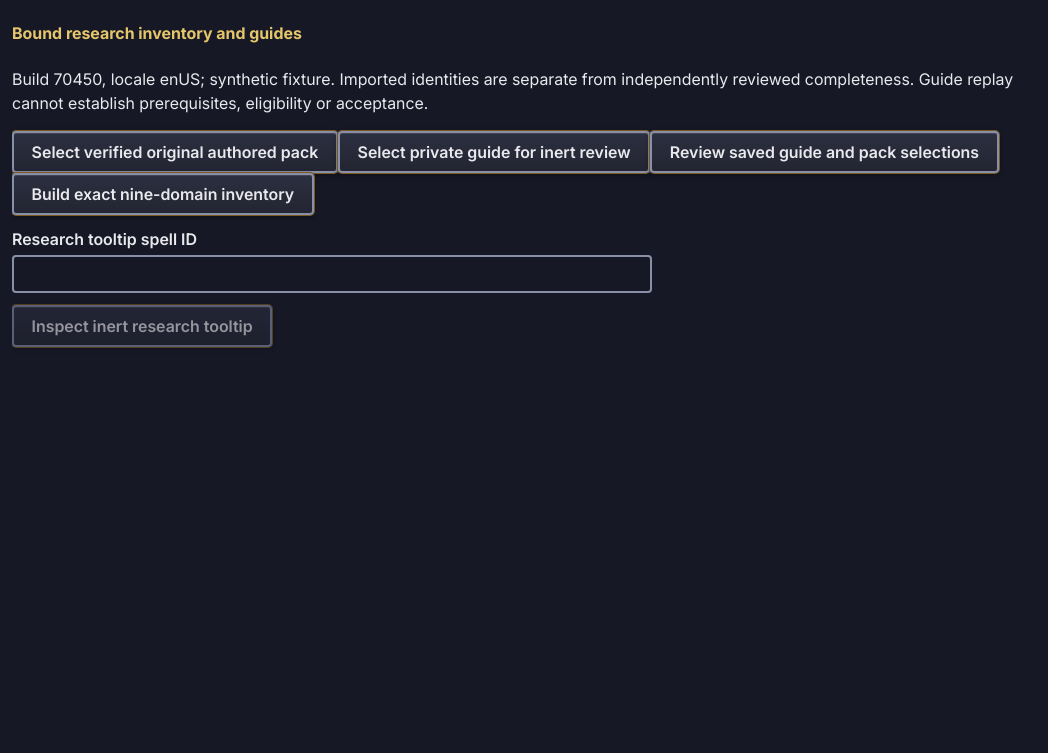
binds subsequent guide findings to the replay digest and clears findings when class changes
Click the button "Select private guide for inert review" at (494, 152), box [338,130,650,173]
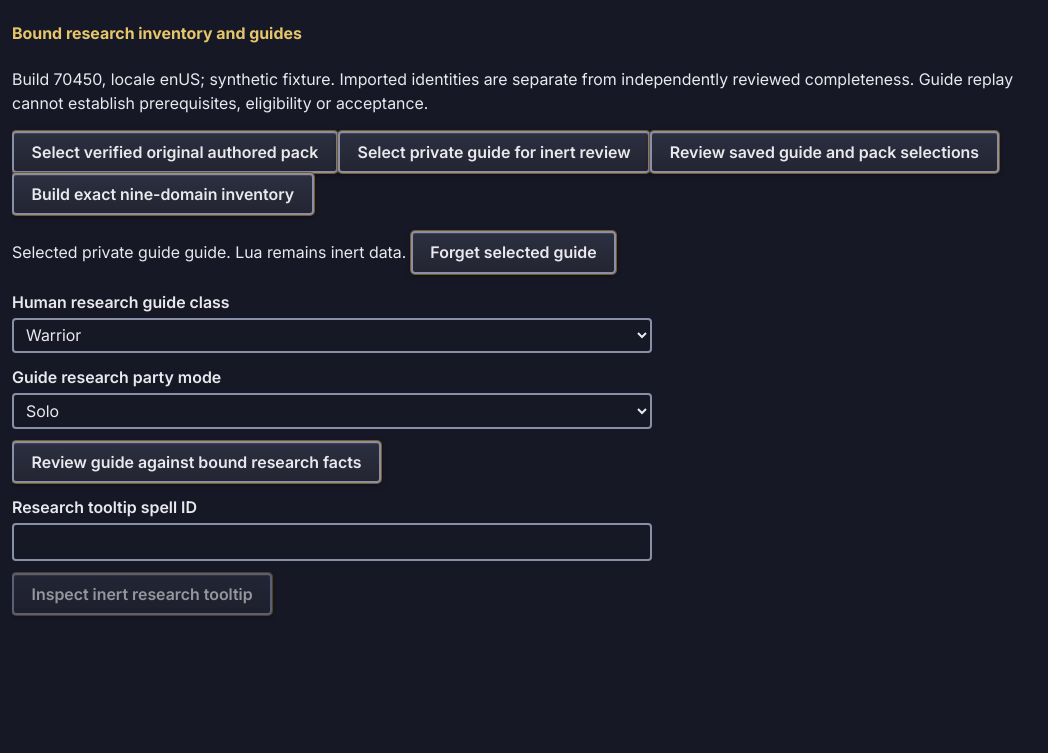
Click the button "Review guide against bound research facts" at (196, 462), box [12,441,381,483]
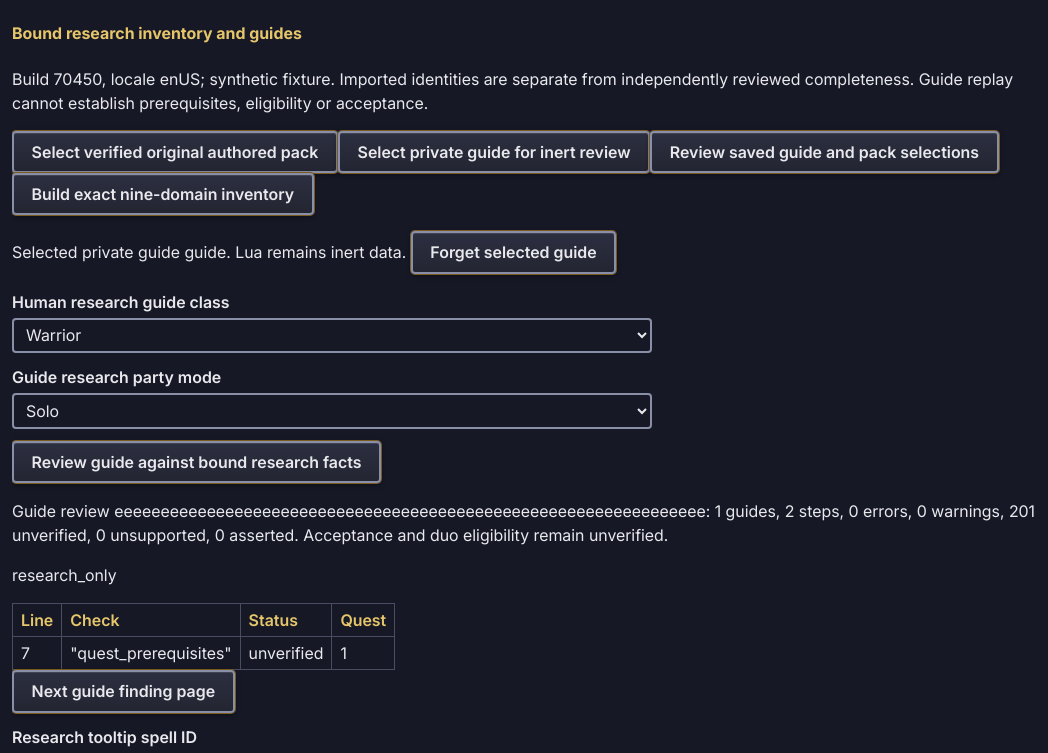
Result: the text "201 unverified" is shown at [12,499,1036,547]
Click the button "Next guide finding page" at (123, 691), box [12,670,235,713]
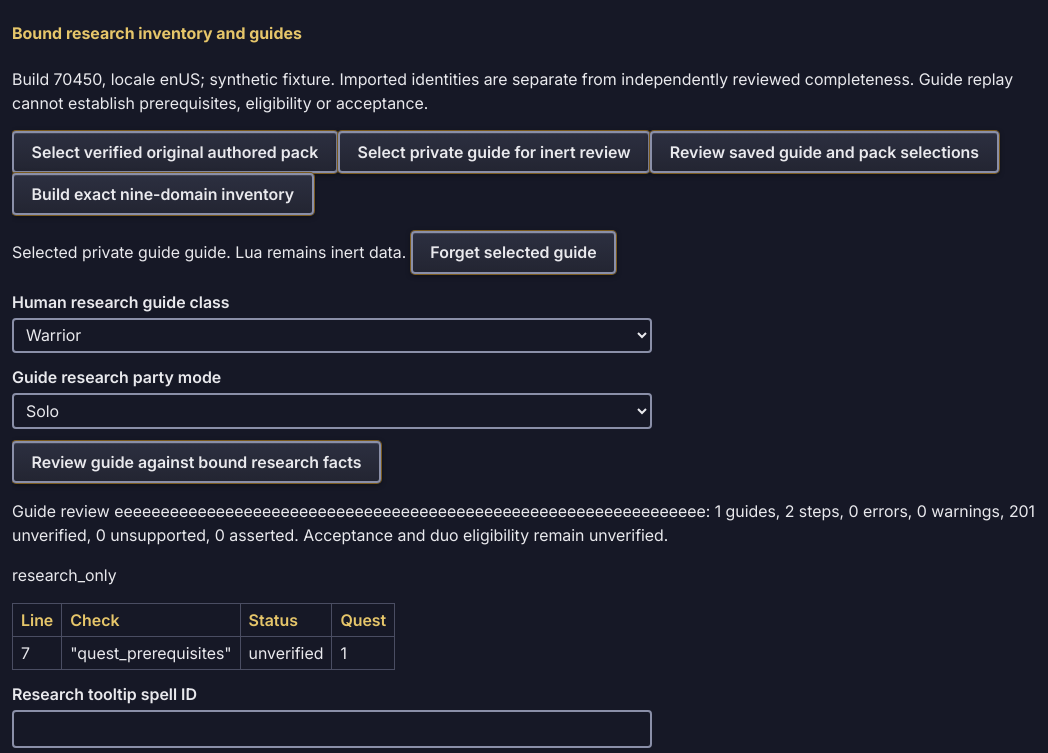
Result: the button "Next guide finding page" is gone
Select "Mage" in the dropdown labelled "Human research guide class" at (332, 336), box [12,318,652,353]
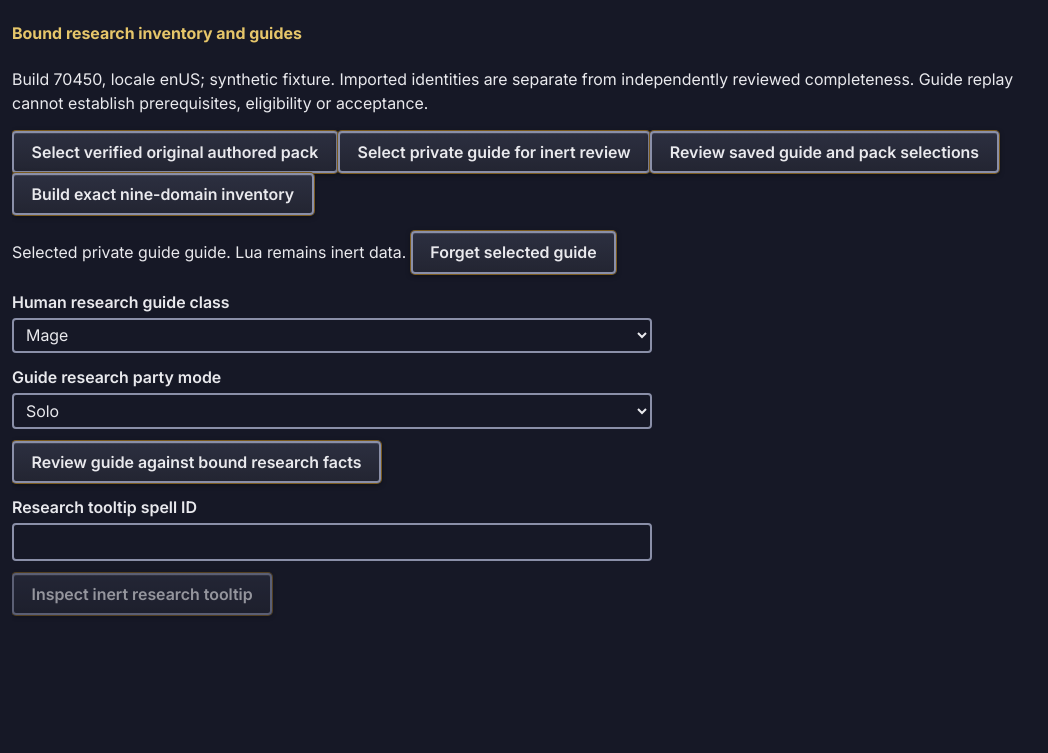
Result: the text "201 unverified" is gone
